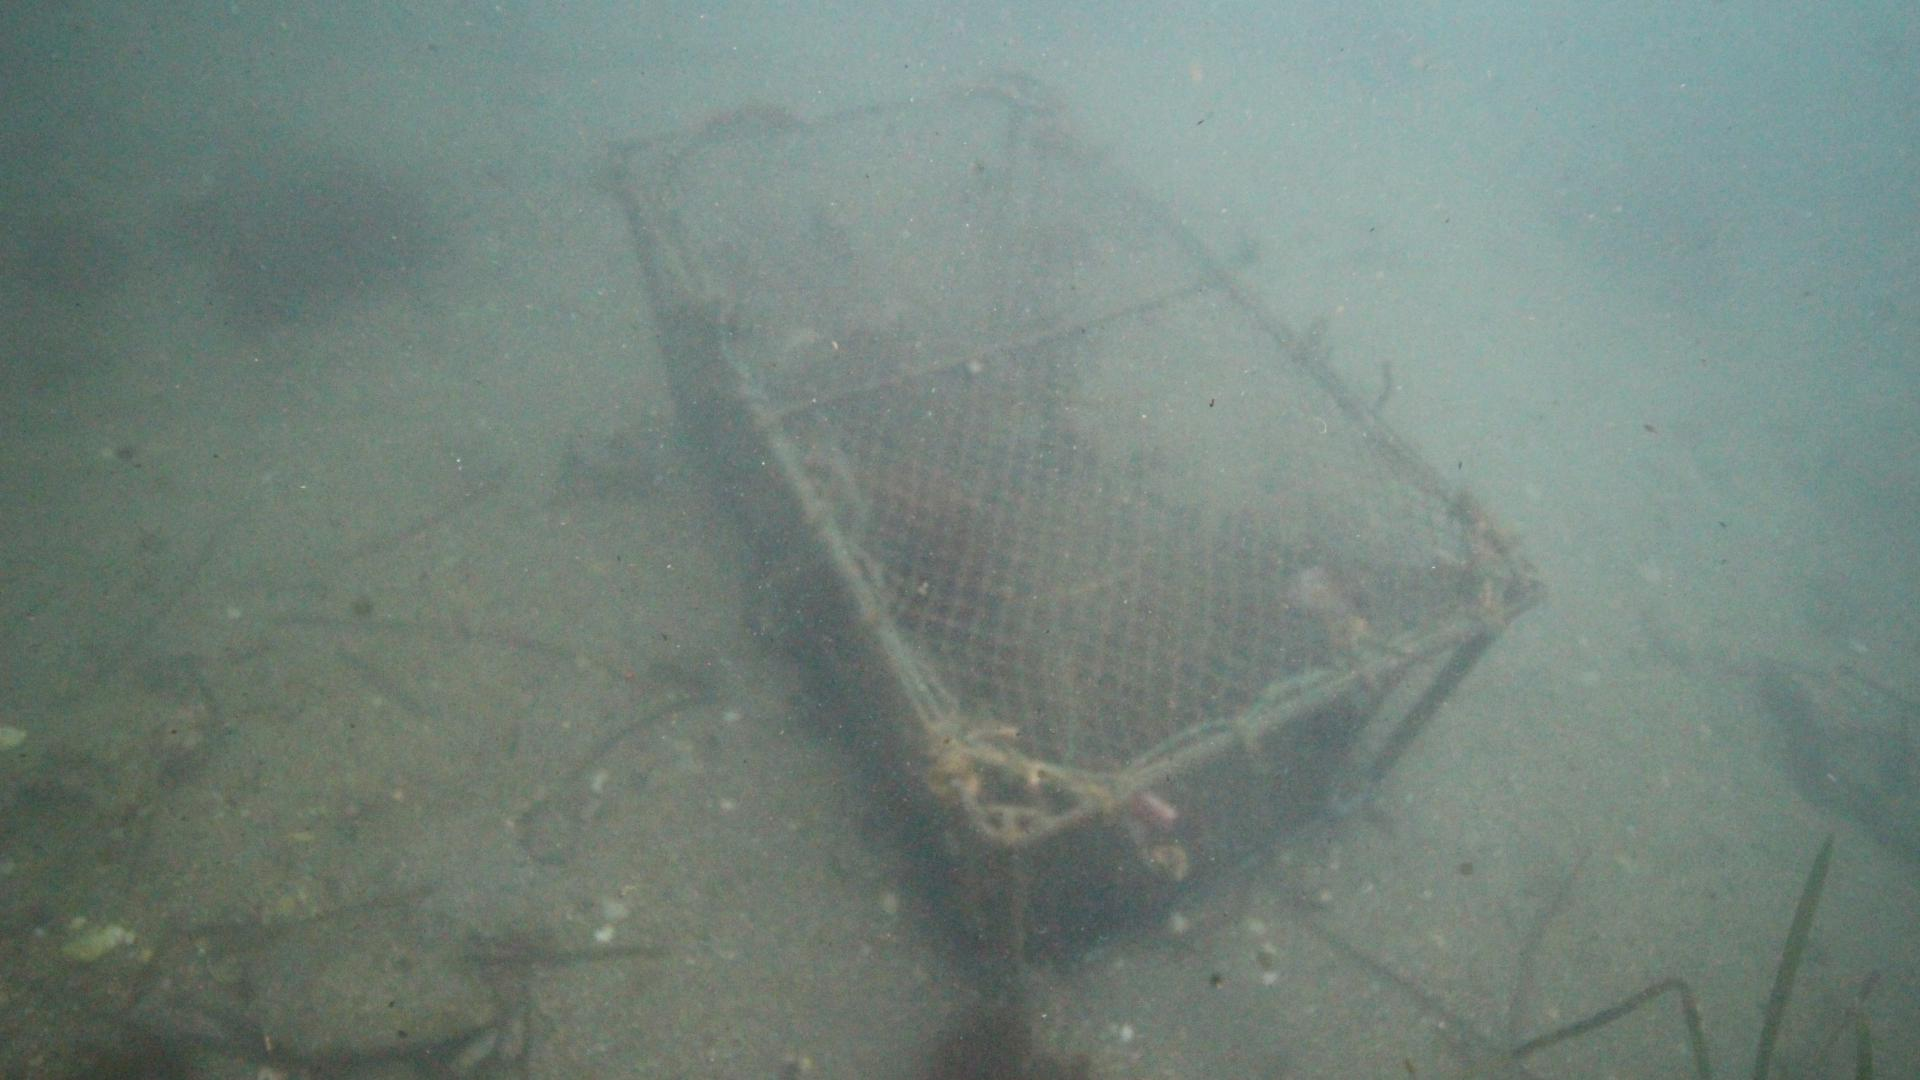rectangular fish trap: (599, 69, 1551, 996)
